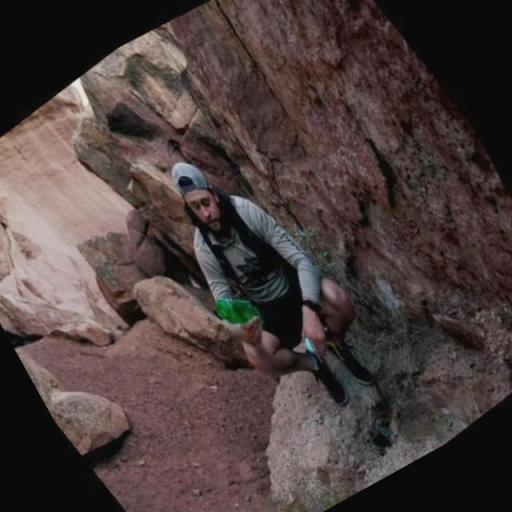bottle: (212, 282, 266, 338)
